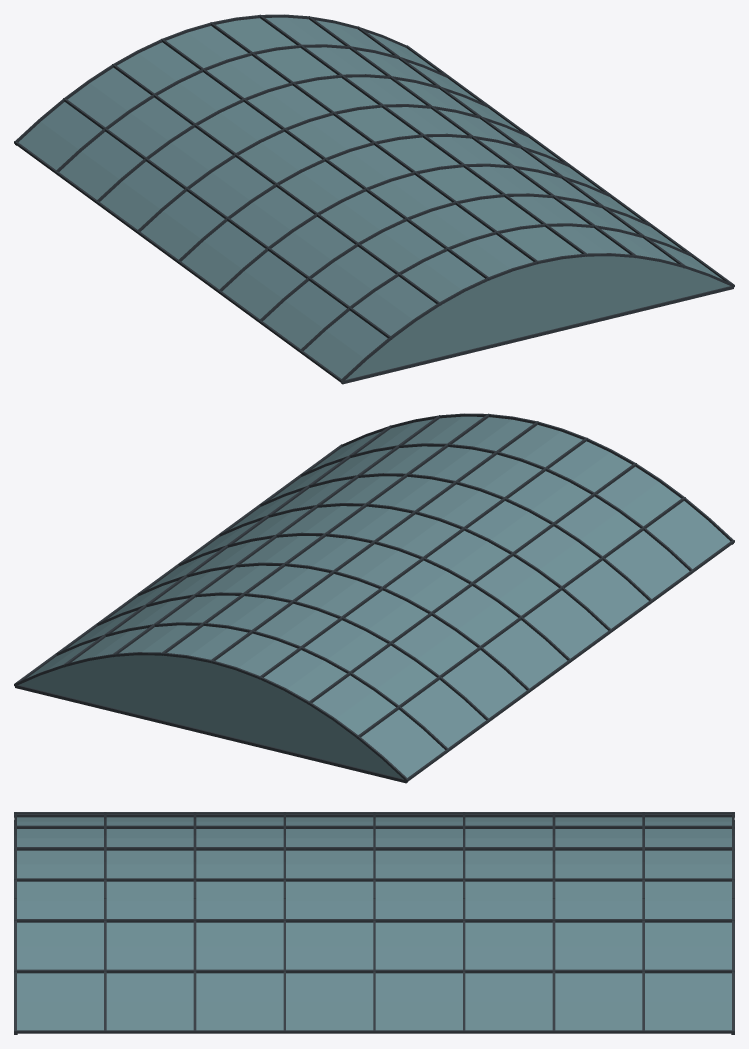
File: Furn_DormRoof3_Skylight.fbx
3 renders of one model, top to bottom at view 1: azimuth 30°, elevation 25°; view 2: azimuth 150°, elevation 25°; view 3: azimuth 270°, elevation 25°, orthographic. The views are drawn at different scales.
Parts seen in each view (by area): view 1: Furn_DormRoof3_Skylight; view 2: Furn_DormRoof3_Skylight; view 3: Furn_DormRoof3_Skylight.
Part boxes in pixels (x1,y1,x2,y2): Furn_DormRoof3_Skylight: [14, 14, 734, 384]; Furn_DormRoof3_Skylight: [14, 413, 734, 783]; Furn_DormRoof3_Skylight: [14, 812, 734, 1034].
Bounding box in the file's own units: 10.45 × 1.9 × 15.08.
